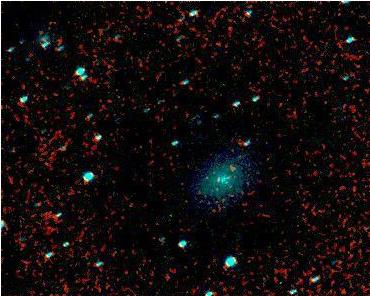star: (215, 154, 245, 184)
